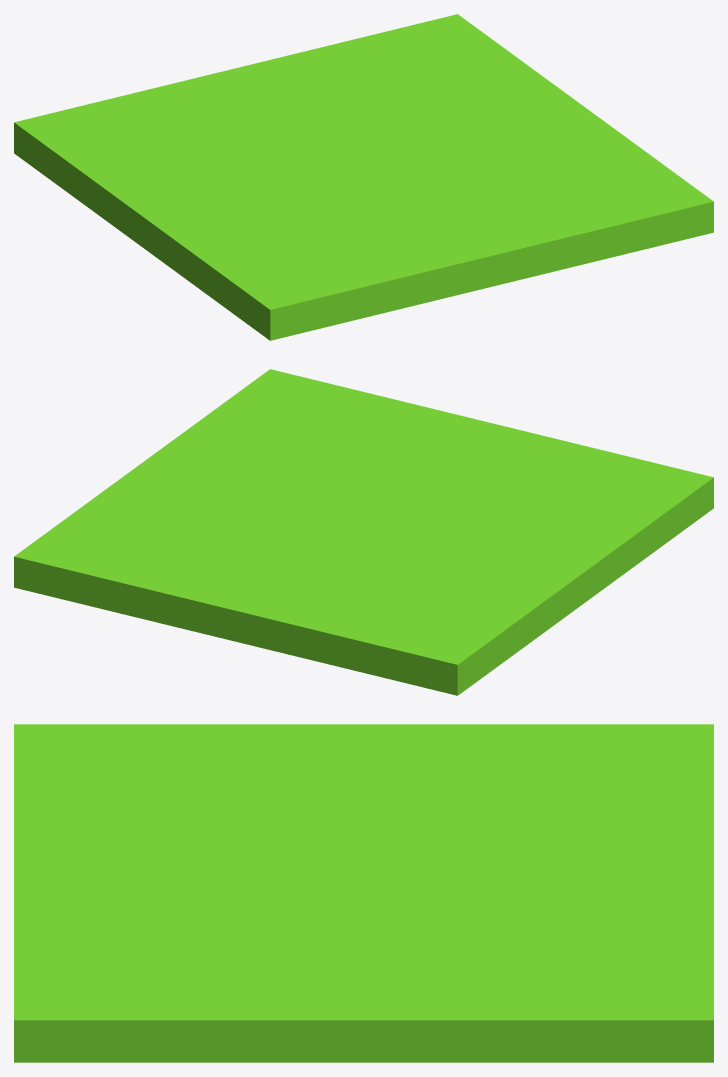
The model's file is Farm_Platform.fbx.
3 renders of one model, top to bottom at view 1: azimuth 30°, elevation 25°; view 2: azimuth 150°, elevation 25°; view 3: azimuth 270°, elevation 25°, orthographic. The views are drawn at different scales.
Visible parts, largest first — view 1: Base; view 2: Base; view 3: Base.
Part boxes in pixels (x1,y1,x2,y2): Base: (14,14,713,340); Base: (14,369,713,695); Base: (14,724,713,1062).
Bounding box in the file's own units: 3000 × 200 × 3000.
